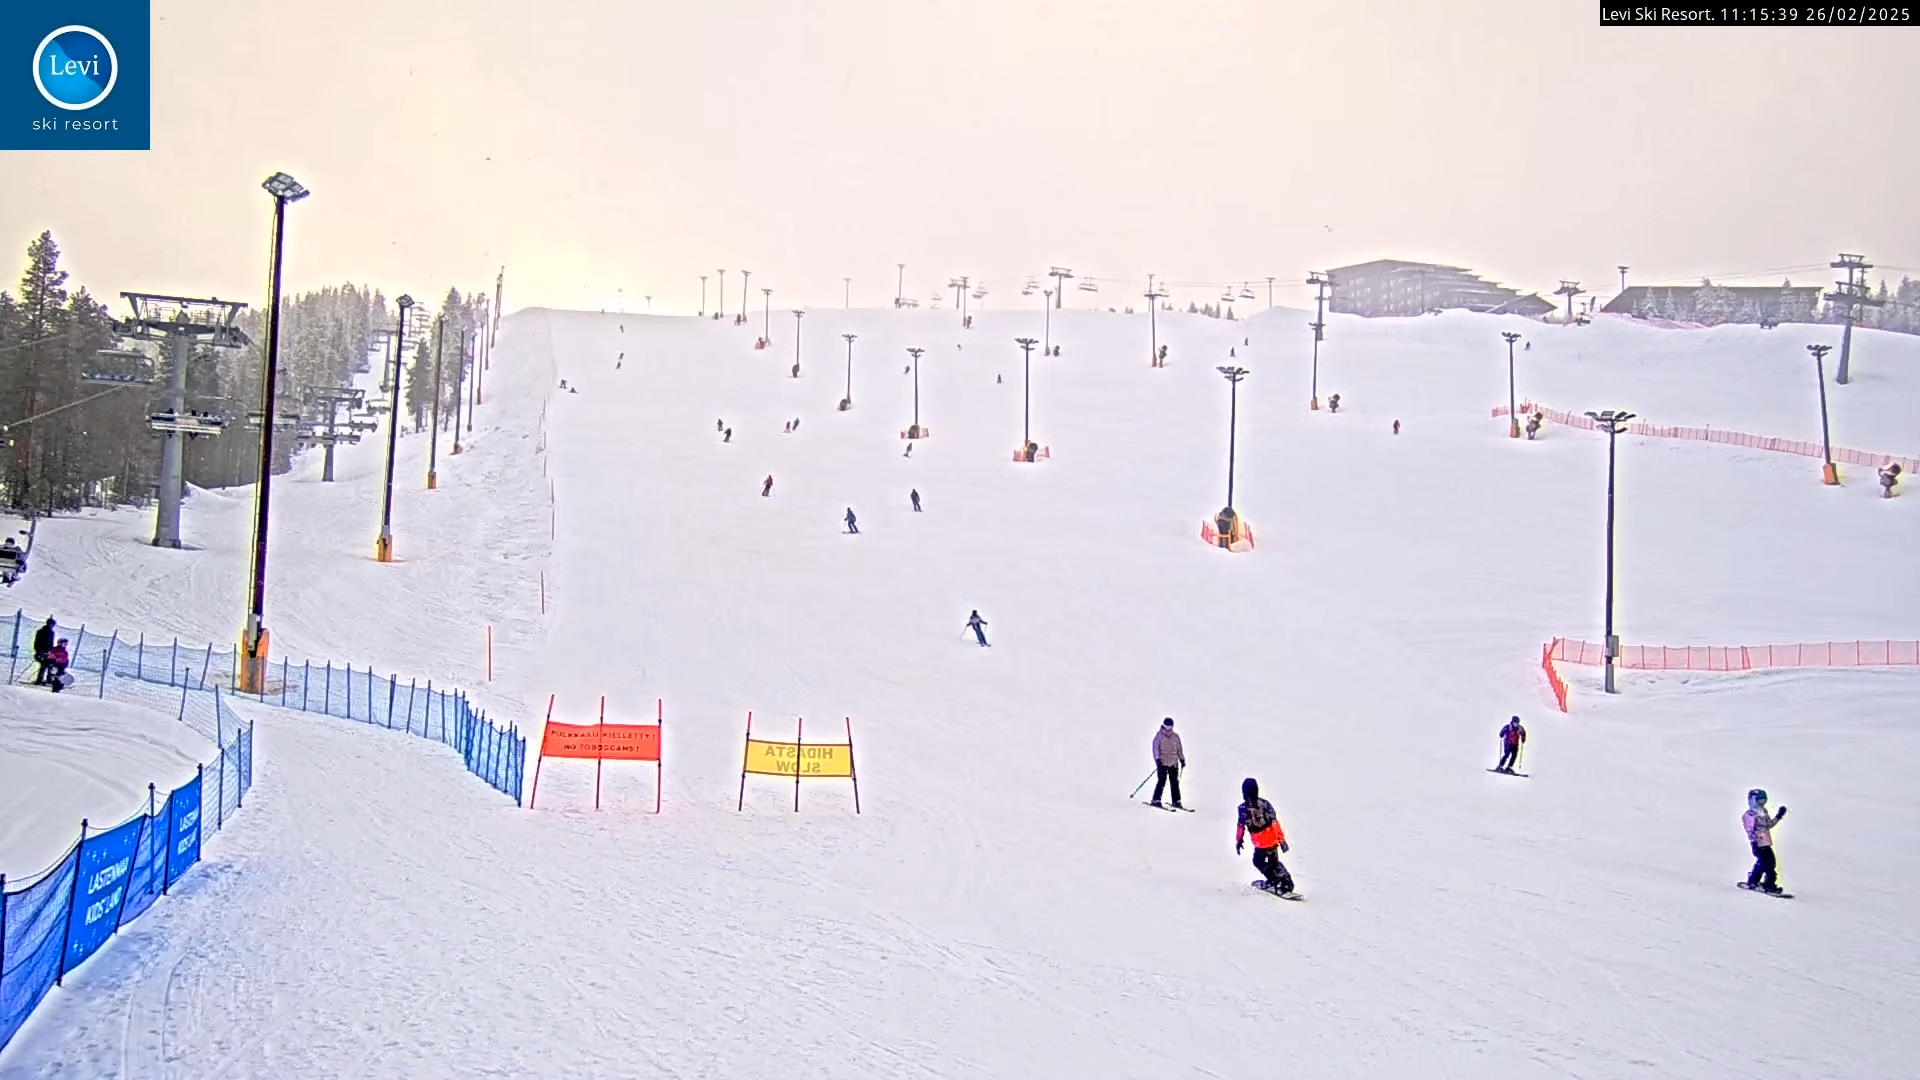skier: (1133, 716, 1197, 816), (1486, 712, 1532, 785)
snowboarder: (1237, 775, 1305, 902), (1730, 787, 1796, 903)
